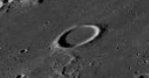crater: (44, 14, 126, 61)
